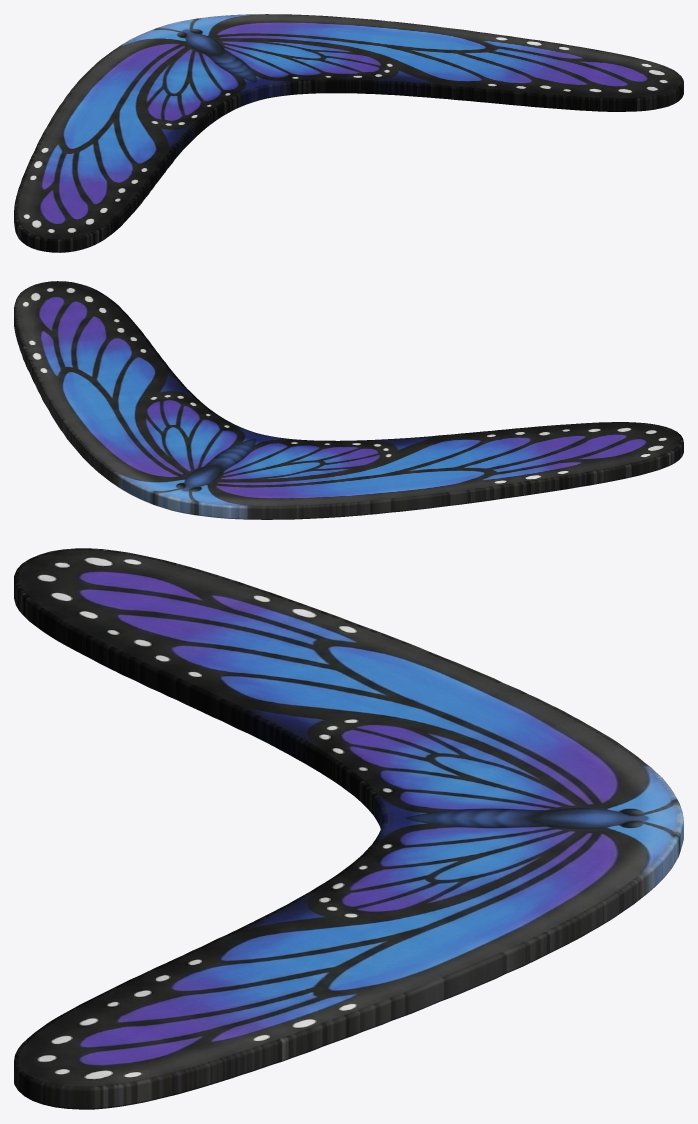
File: Boomerang_33.fbx
3 views of the same model, one above another, from view 1: azimuth 30°, elevation 25°; view 2: azimuth 150°, elevation 25°; view 3: azimuth 270°, elevation 25° (orthographic). The views are drawn at different scales.
Visible parts, largest first — view 1: Boomerang_33; view 2: Boomerang_33; view 3: Boomerang_33.
Boxes of the visible parts, <box> form: Boomerang_33: <box>14,14,683,252</box>; Boomerang_33: <box>14,281,683,519</box>; Boomerang_33: <box>14,548,683,1109</box>.
Size of the model in its own units: 201 by 3.8 by 105.
1 material, 1 textured.
